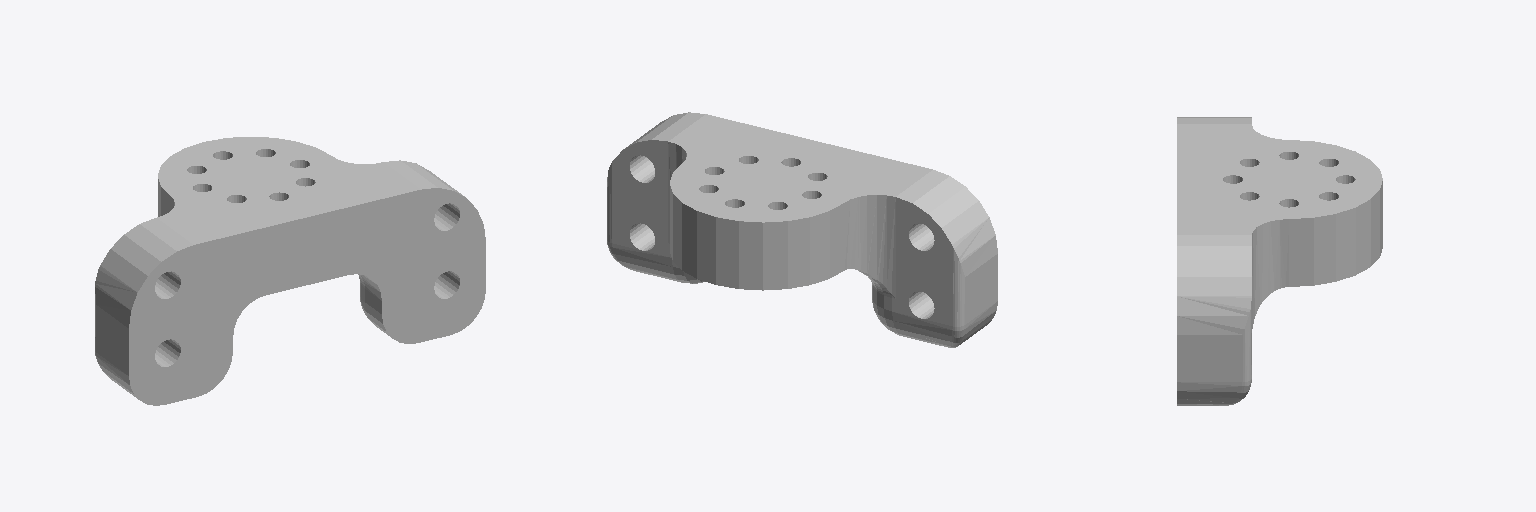
The model's file is T200_bracket_02_T200_bracket.obj.
The picture shows the model from 3 angles: view 1: azimuth 30°, elevation 25°; view 2: azimuth 150°, elevation 25°; view 3: azimuth 270°, elevation 25°; orthographic projection.
Size of the model in its own units: 0.0698 by 0.0286 by 0.0349.